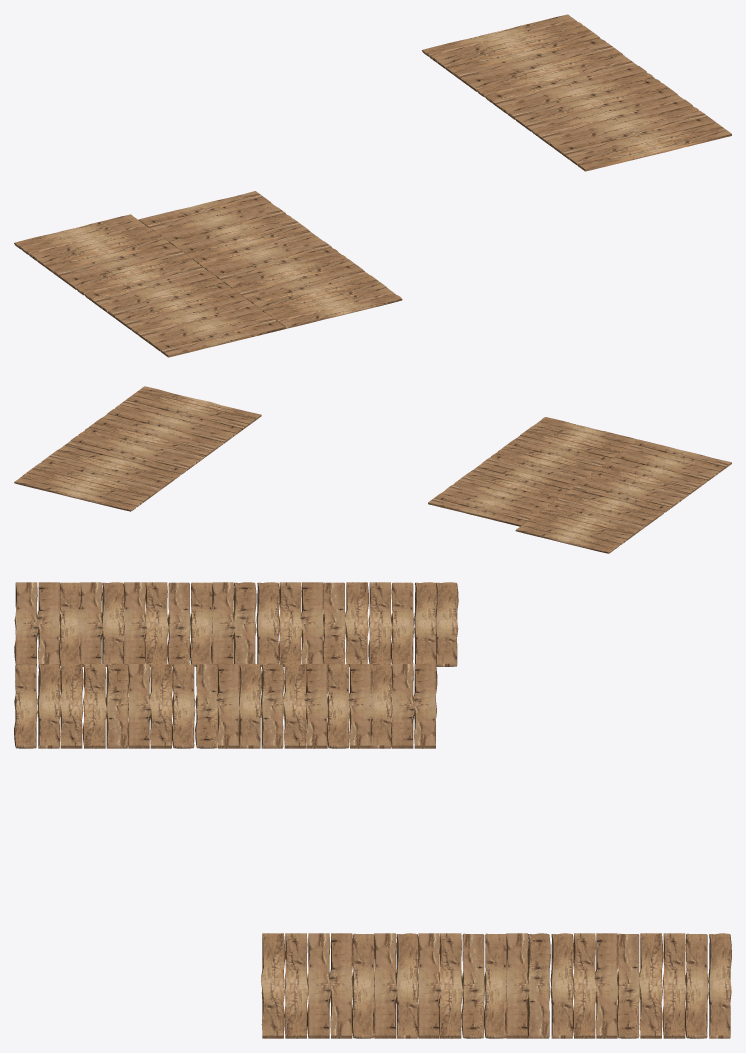
File: tavern_170.gltf
3 renders of one model, top to bottom at view 1: azimuth 30°, elevation 25°; view 2: azimuth 150°, elevation 25°; view 3: azimuth 270°, elevation 25°, orthographic. The views are drawn at different scales.
Visible parts, largest first — view 1: Box123_Material #170_0.001; view 2: Box123_Material #170_0.001; view 3: Box123_Material #170_0.001.
Part boxes in pixels (bbox=[...]): Box123_Material #170_0.001: bbox=[14, 14, 731, 357]; Box123_Material #170_0.001: bbox=[14, 386, 731, 553]; Box123_Material #170_0.001: bbox=[14, 582, 731, 1038].
Bounding box in the file's own units: 324 × 1.2 × 216.
